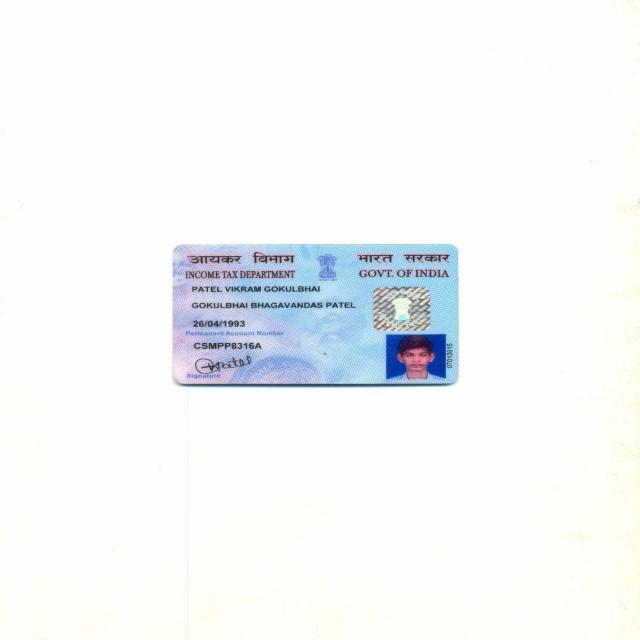pan_card: (171, 244, 458, 387)
